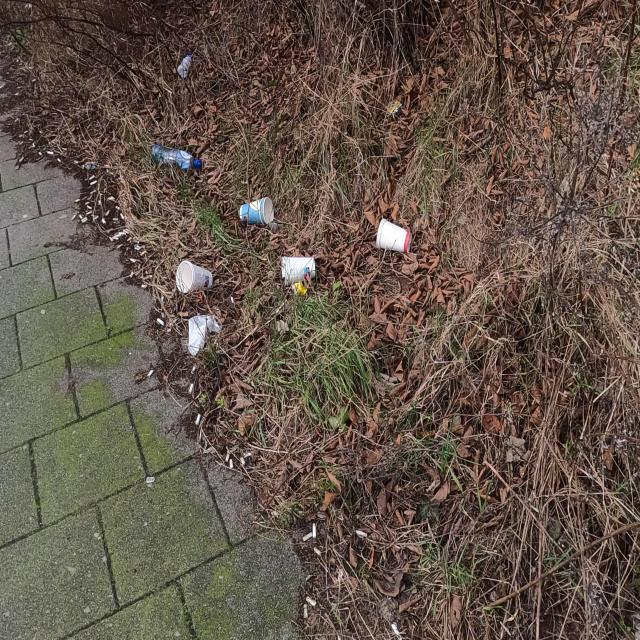Cup: (375, 217, 412, 255), (174, 260, 213, 296), (238, 194, 275, 227), (280, 256, 316, 286)
Paper: (188, 314, 220, 356)
